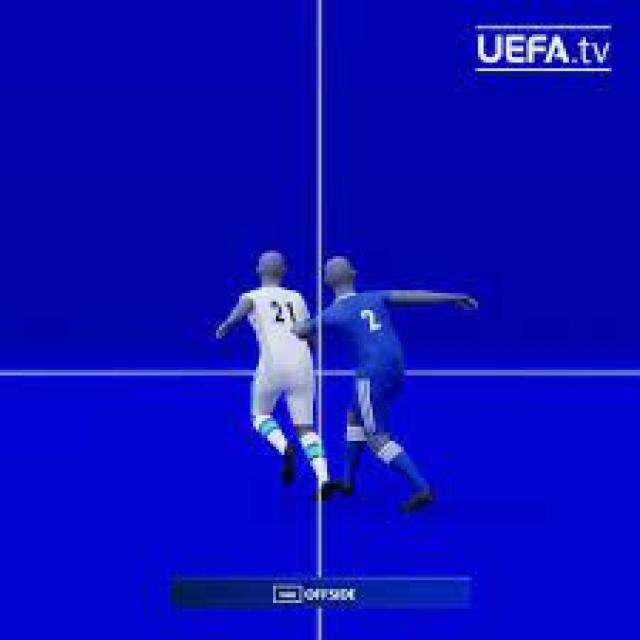offside: (214, 235, 454, 516)
